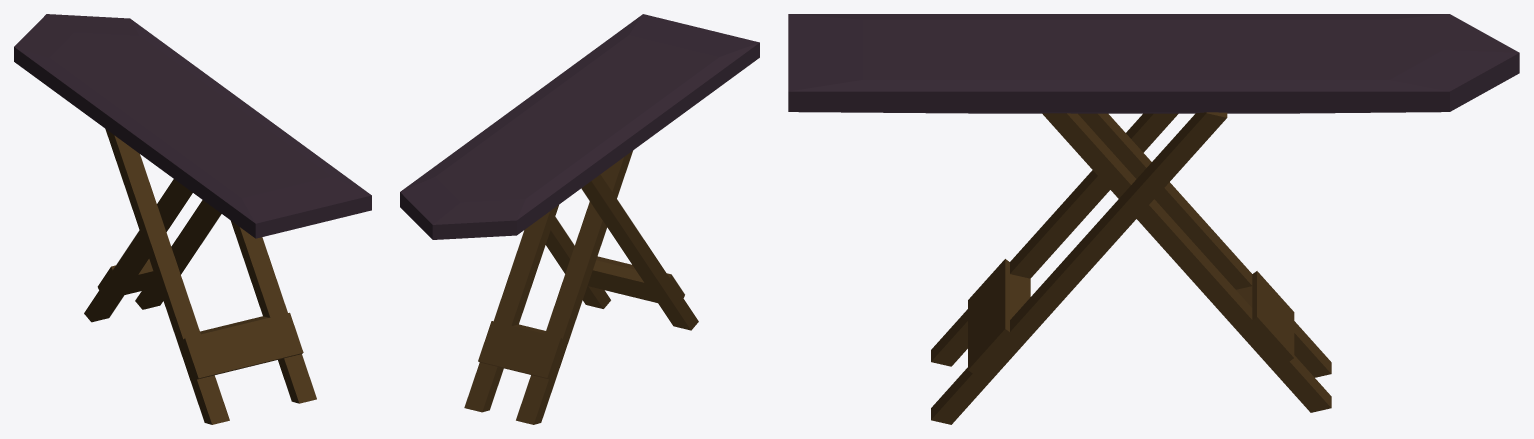
Rendered from ironboard.fbx.
3 renders of one model, left to right at view 1: azimuth 30°, elevation 25°; view 2: azimuth 150°, elevation 25°; view 3: azimuth 270°, elevation 25°, orthographic. The views are drawn at different scales.
Parts seen in each view (by area): view 1: Cube.013, Cube.015, Cube.014; view 2: Cube.013, Cube.014, Cube.015; view 3: Cube.013, Cube.015, Cube.014.
Boxes of the visible parts, left/top/right/bottom form: Cube.013: left=14, top=14, right=371, bottom=238; Cube.015: left=105, top=129, right=316, bottom=424; Cube.014: left=84, top=179, right=221, bottom=322; Cube.013: left=400, top=14, right=759, bottom=239; Cube.014: left=464, top=151, right=632, bottom=424; Cube.015: left=545, top=174, right=698, bottom=330; Cube.013: left=788, top=14, right=1519, bottom=113; Cube.015: left=931, top=112, right=1227, bottom=424; Cube.014: left=1042, top=113, right=1331, bottom=412.
Size of the model in its own units: 344 by 700 by 1371.
